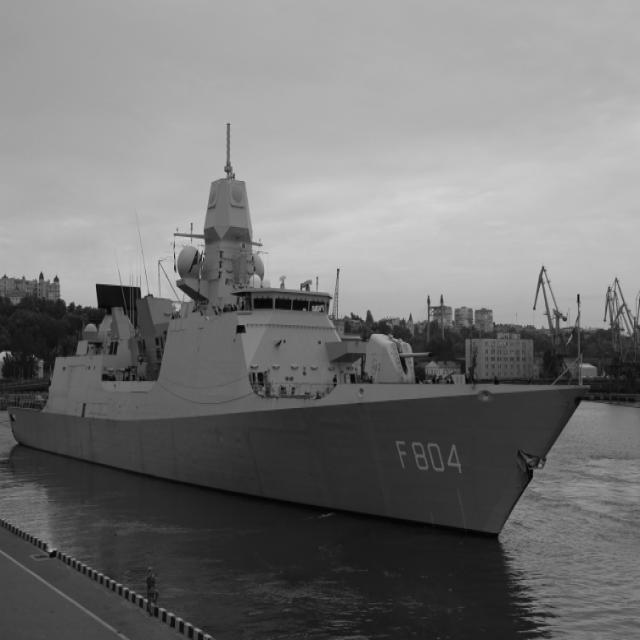Fragata: (9, 76, 595, 543)
